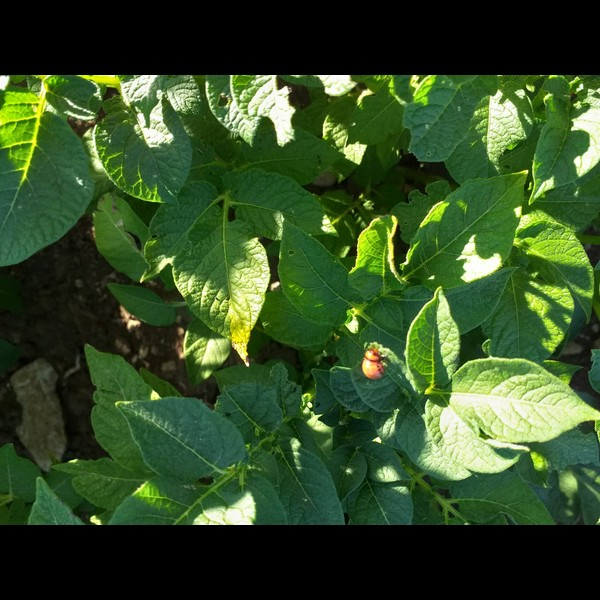hrosc: (360, 345, 385, 384)
